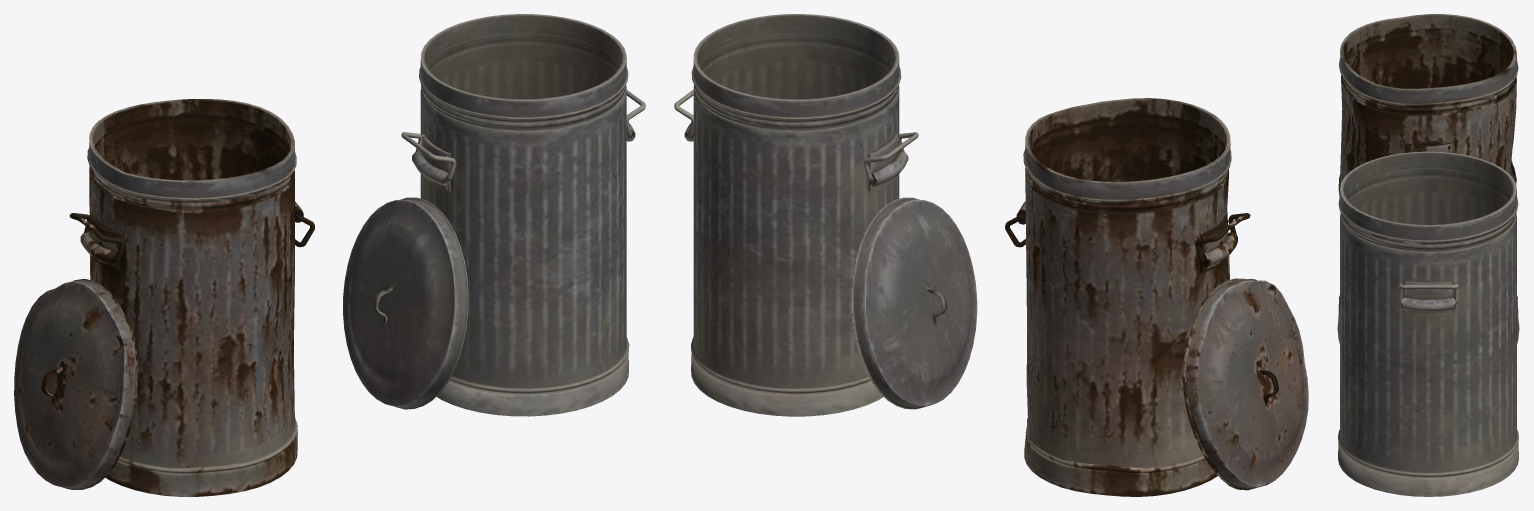
File: trash_can.glb
3 views of the same model, side by side, from view 1: azimuth 30°, elevation 25°; view 2: azimuth 150°, elevation 25°; view 3: azimuth 270°, elevation 25° (orthographic). The views are drawn at different scales.
Parts seen in each view (by area): view 1: metal_trash_can_handle_left, metal_trash_can_rust; view 2: metal_trash_can_handle_left, metal_trash_can_rust; view 3: metal_trash_can_handle_left, metal_trash_can_rust.
Boxes of the visible parts, <box> form: metal_trash_can_handle_left: <box>343,14,645,416</box>; metal_trash_can_rust: <box>14,99,314,496</box>; metal_trash_can_handle_left: <box>674,14,977,416</box>; metal_trash_can_rust: <box>1005,98,1308,496</box>; metal_trash_can_handle_left: <box>1337,151,1519,496</box>; metal_trash_can_rust: <box>1338,14,1518,317</box>.
Bounding box in the file's own units: 1.78 × 0.9062 × 0.5543.
2 materials, 2 textured.
